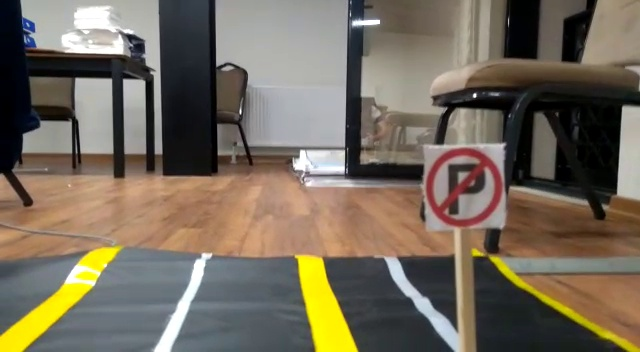park_yapilmaz: (422, 145, 509, 230)
